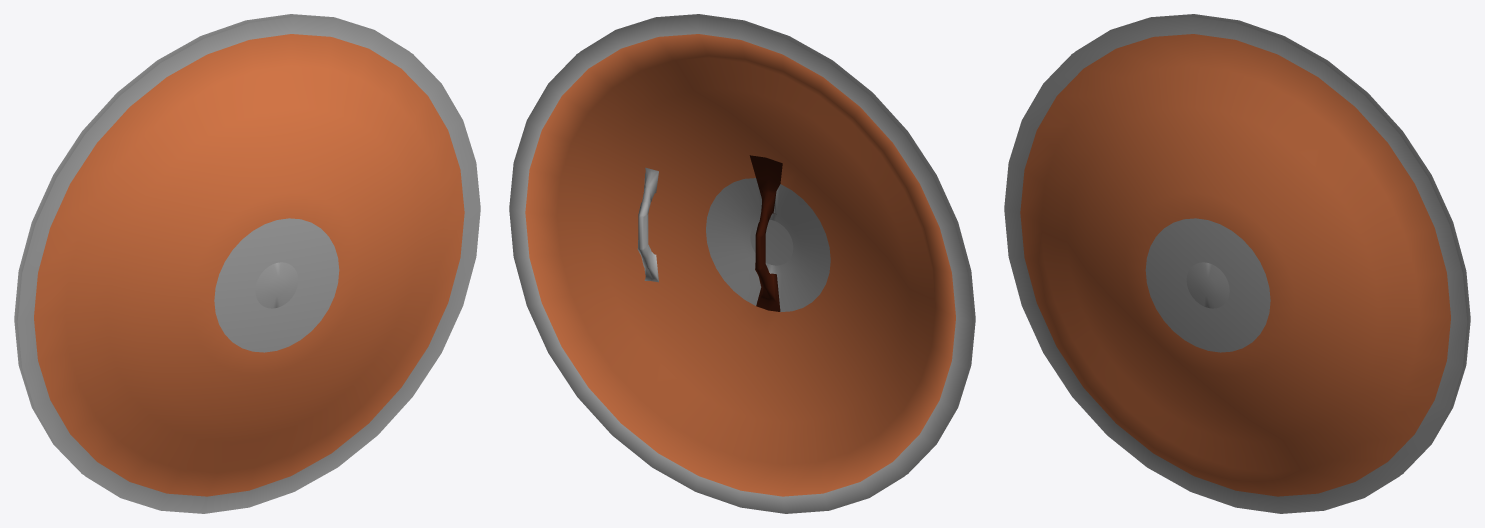
Rendered from Greek Sheild.fbx.
3 views of the same model, side by side, from view 1: azimuth 30°, elevation 25°; view 2: azimuth 150°, elevation 25°; view 3: azimuth 330°, elevation 25° (orthographic).
Visible parts, largest first — view 1: Circle; view 2: Circle; view 3: Circle.
Part boxes in pixels (x1=…): Circle: x1=14, y1=14, x2=480, y2=513; Circle: x1=509, y1=14, x2=975, y2=513; Circle: x1=1004, y1=14, x2=1470, y2=513.
Bounding box in the file's own units: 215 × 215 × 25.86.
